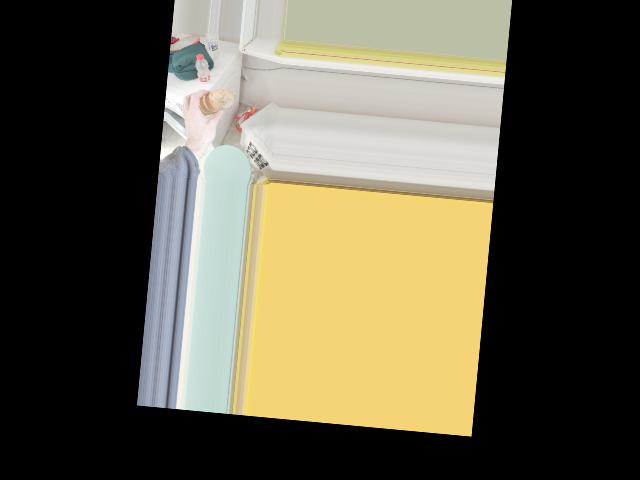sweet_potato: (199, 86, 229, 117)
